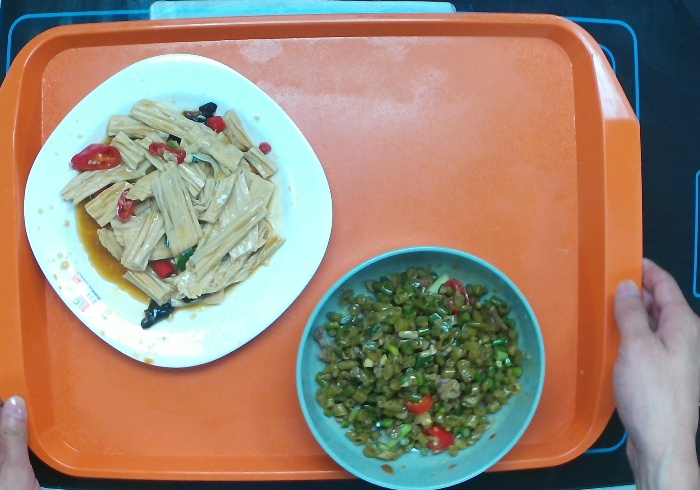ZNLD-Qing_Hua_Yuan_Wan: (281, 235, 560, 490)
ZNLD-Yuan_Jiao_Pan: (16, 44, 349, 377)
